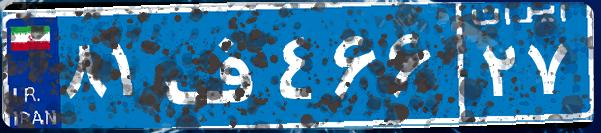1: (110, 28, 158, 105)
2: (475, 38, 525, 113)
4: (273, 28, 330, 110)
6: (385, 28, 445, 110), (330, 28, 385, 110)
7: (525, 38, 570, 115)
8: (57, 26, 110, 107)
ف: (158, 15, 273, 115)
